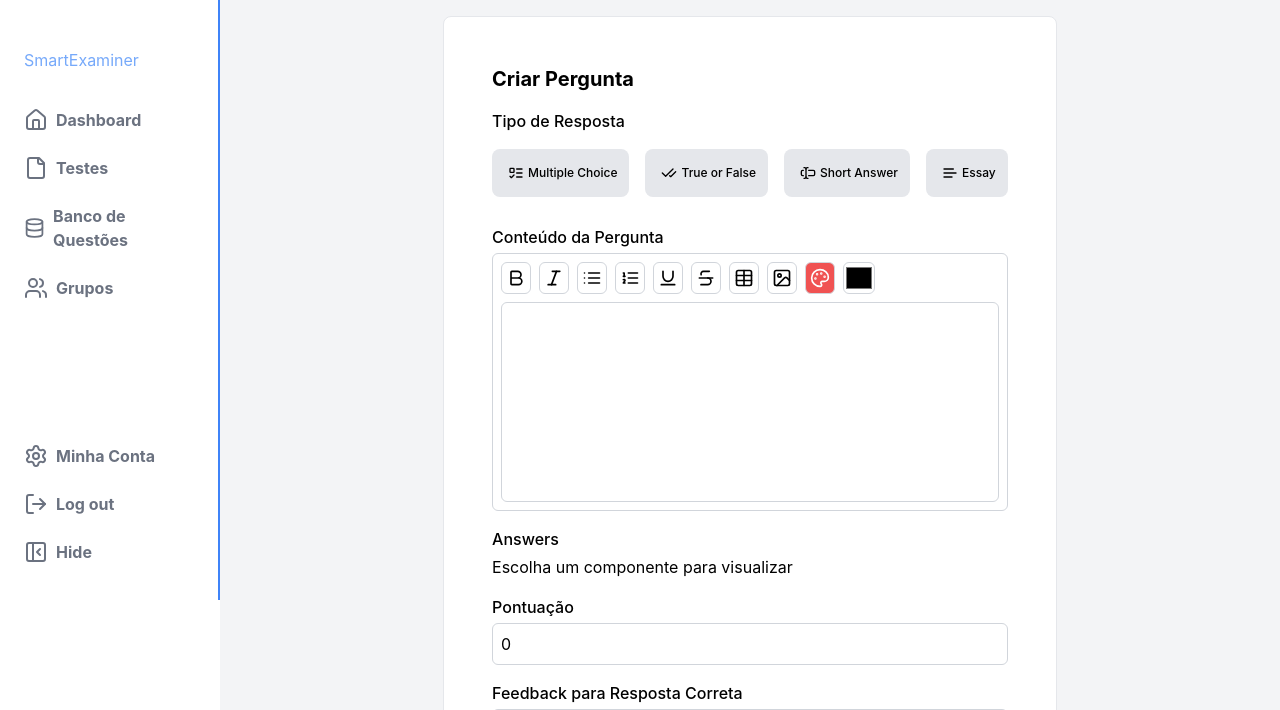
Test: CreateQuestion Component › changes question type to 'Short Answer' when button is clicked
Click the button "Short Answer": (847, 173) [784,149,910,197]
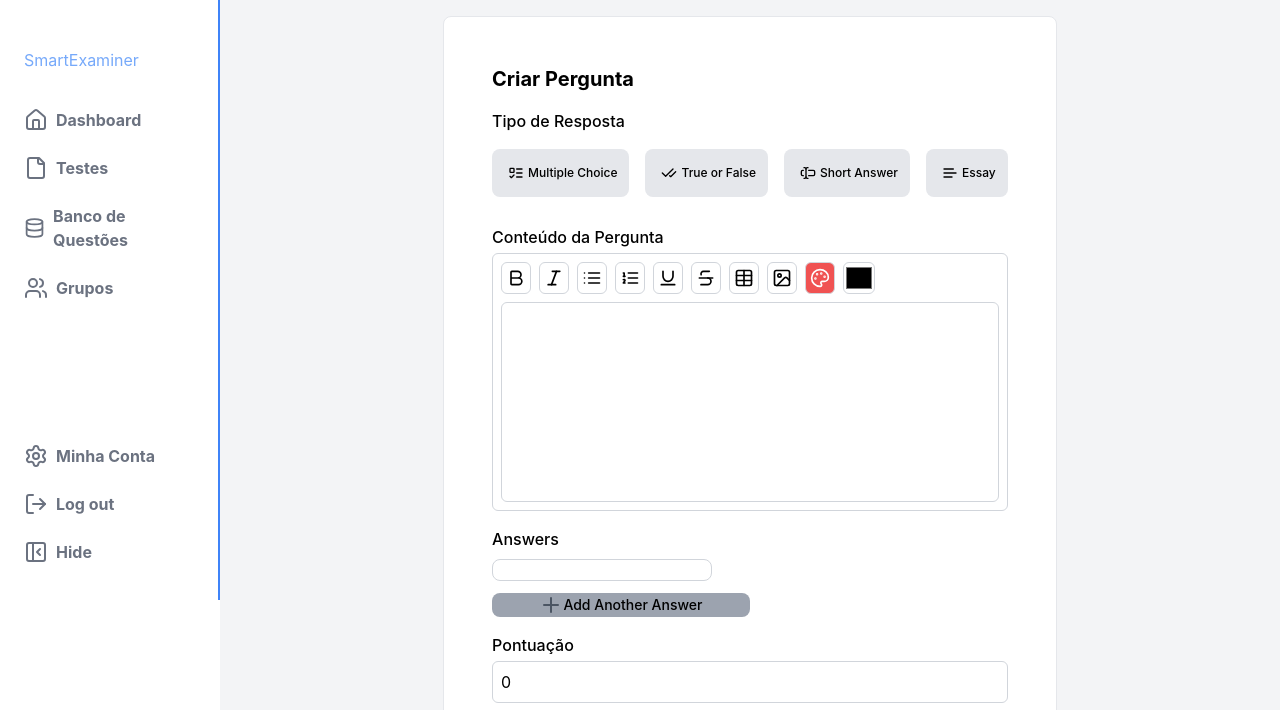
Result: the number of buttons "Add Another Answer" is 1 at [492,593,750,617]
Result: the field with test id "short_answer_1" is shown at [492,559,712,581]
